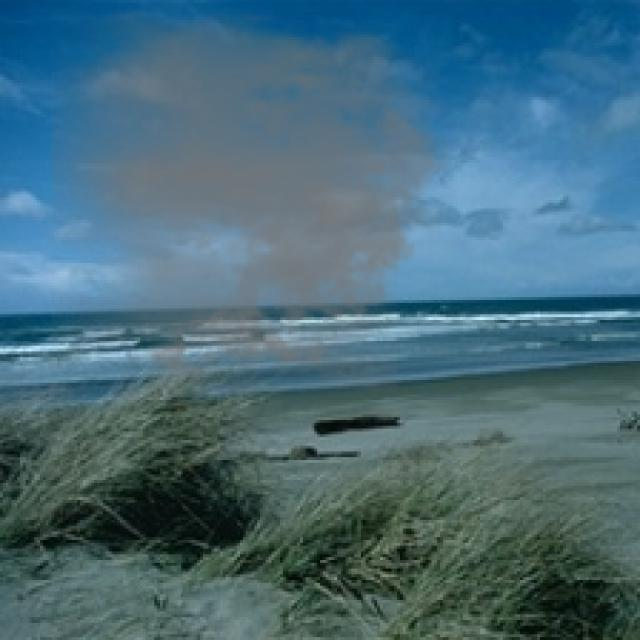Smoke: (51, 9, 466, 392)
